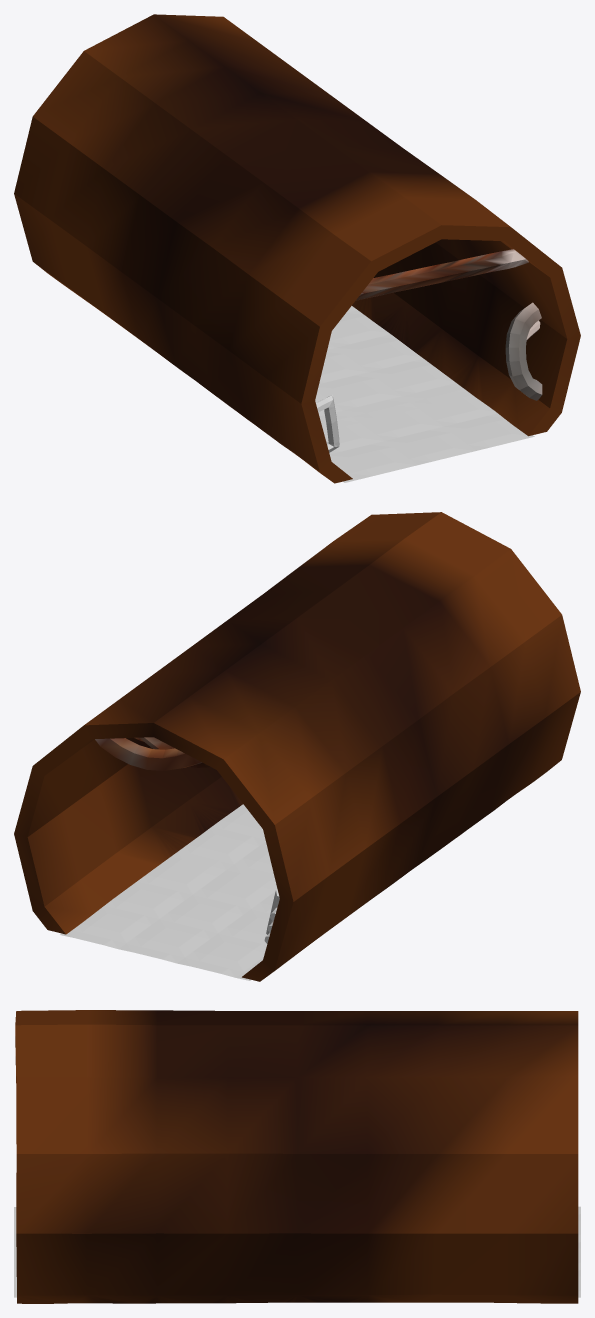
Rendered from Tunnel(4).fbx.
3 views of the same model, one above another, from view 1: azimuth 30°, elevation 25°; view 2: azimuth 150°, elevation 25°; view 3: azimuth 270°, elevation 25° (orthographic). The views are drawn at different scales.
Visible parts, largest first — view 1: Cylindre 3, Cylindre 2, Tube 12, Tube 6, Tube 7; view 2: Cylindre 3, Cylindre 2, Tube 3; view 3: Cylindre 3, Cylindre 2.
Part boxes in pixels (x1=…): Cylindre 3: x1=14, y1=14, x2=580, y2=483; Cylindre 2: x1=315, y1=306, x2=534, y2=482; Tube 12: x1=356, y1=249, x2=528, y2=300; Tube 6: x1=505, y1=302, x2=542, y2=400; Tube 7: x1=316, y1=395, x2=339, y2=452; Cylindre 3: x1=14, y1=512, x2=580, y2=981; Cylindre 2: x1=60, y1=804, x2=277, y2=980; Tube 3: x1=95, y1=738, x2=201, y2=770; Cylindre 3: x1=15, y1=1010, x2=578, y2=1303; Cylindre 2: x1=14, y1=1206, x2=580, y2=1297.
Size of the model in its own units: 4.55 by 3.65 by 8.18.
